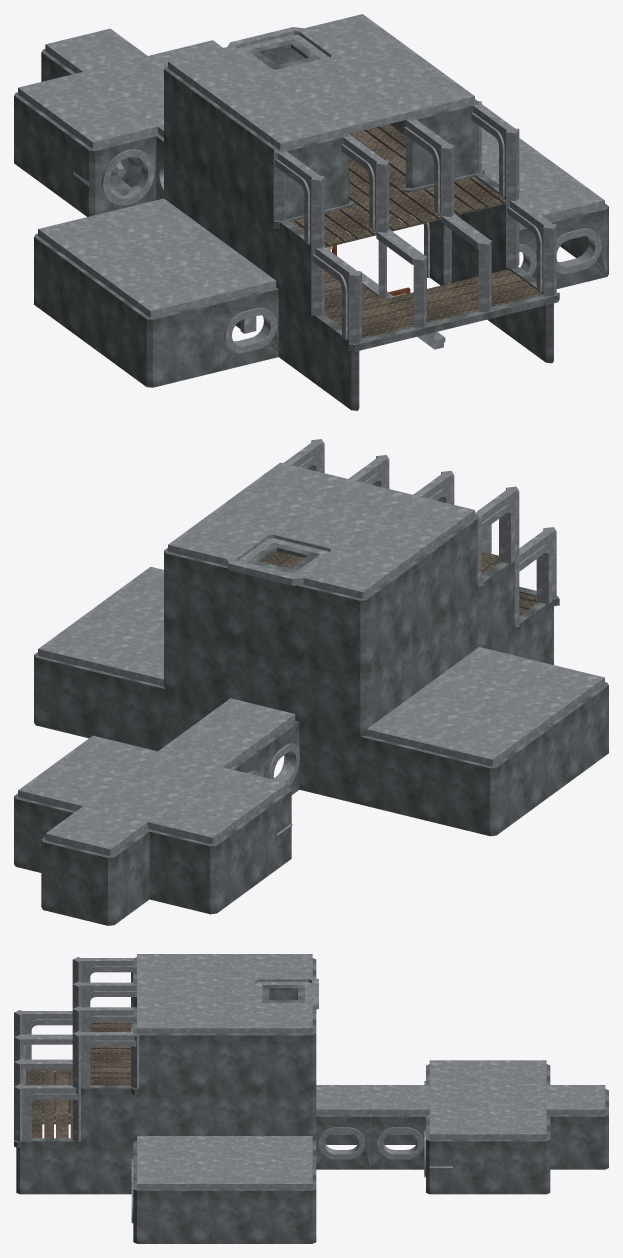
The model's file is ShipInterior.obj.
3 renders of one model, top to bottom at view 1: azimuth 30°, elevation 25°; view 2: azimuth 150°, elevation 25°; view 3: azimuth 270°, elevation 25°, orthographic. The views are drawn at different scales.
Parts seen in each view (by area): view 1: mergedBlocks; view 2: mergedBlocks; view 3: mergedBlocks.
Boxes of the visible parts, bbox=[...] form: mergedBlocks: bbox=[14, 14, 608, 410]; mergedBlocks: bbox=[14, 439, 608, 925]; mergedBlocks: bbox=[14, 954, 608, 1243].
Bounding box in the file's own units: 7.13 × 3.11 × 10.17.
